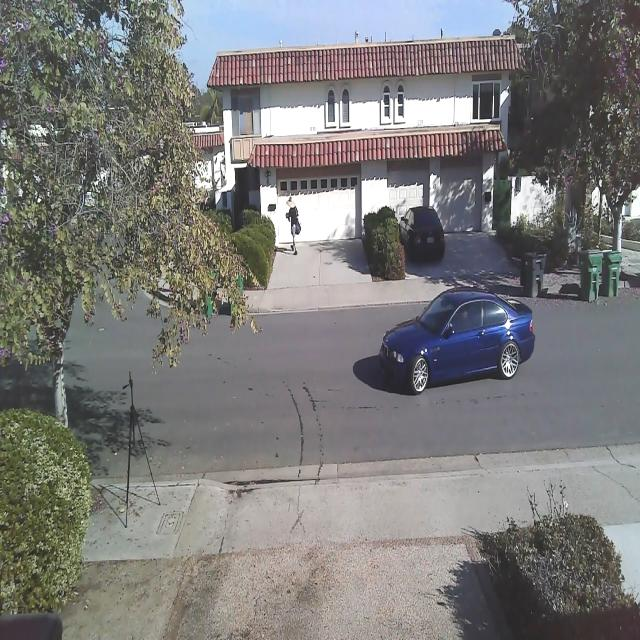Carbeetle: (374, 280, 541, 400)
Civilian: (399, 205, 445, 263)
